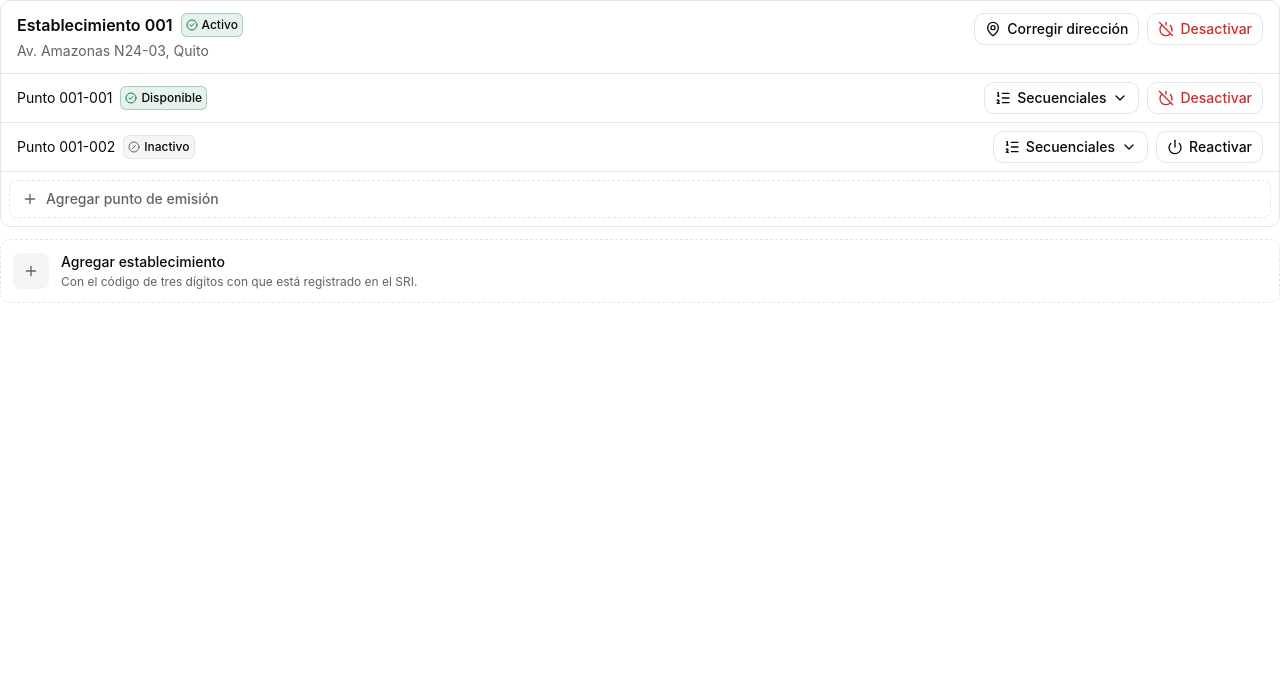
it: secuenciales de cada punto (design D14) › un error de carga ofrece reintentar
The image size is (1280, 697).
Click the button with aria-label "Secuenciales del punto 001-001". click: (1062, 98)
box: [984, 82, 1140, 114]
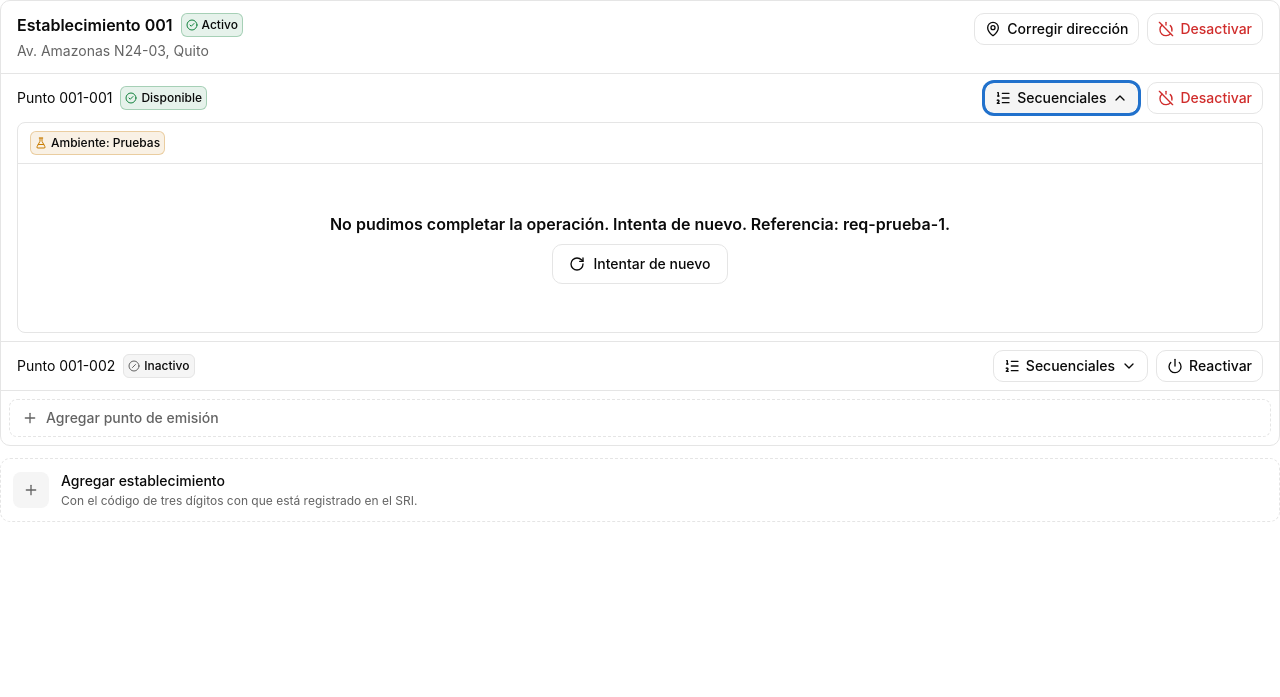
Click the button "Intentar de nuevo". click: (640, 264)
box: [552, 244, 728, 284]
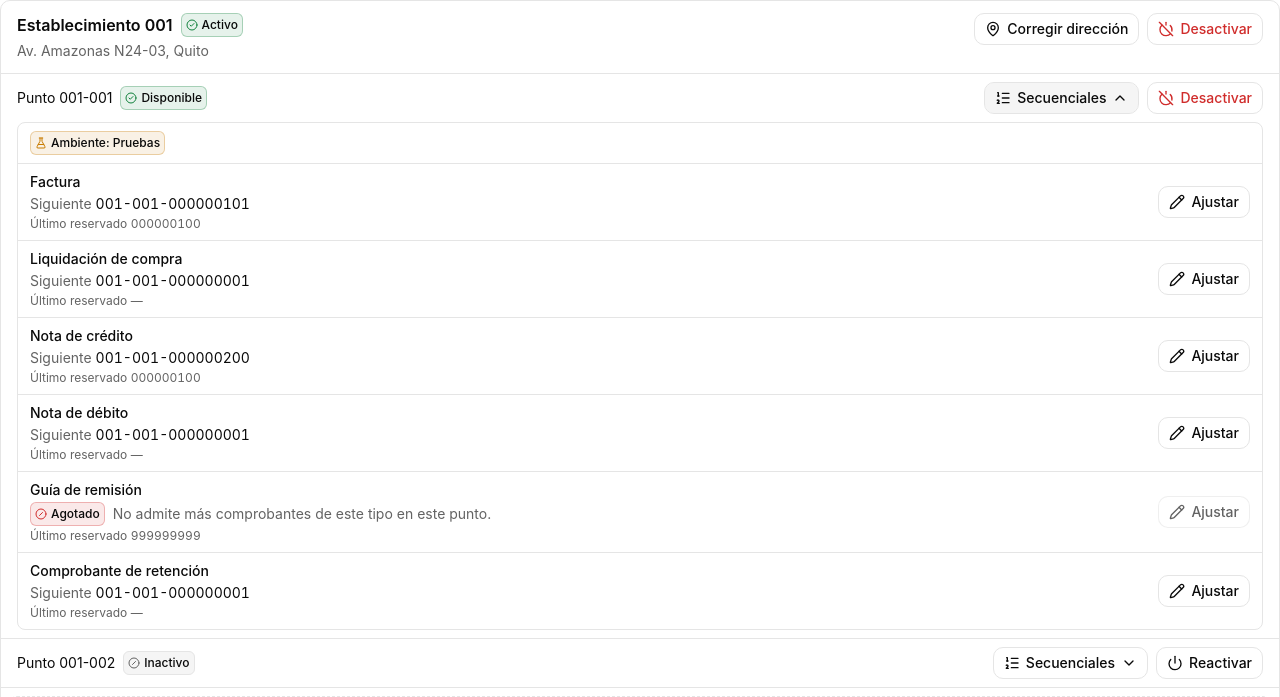
Expected: the list item that starts with "Factura" shows "001-001-000000101", [96, 195, 250, 212]
